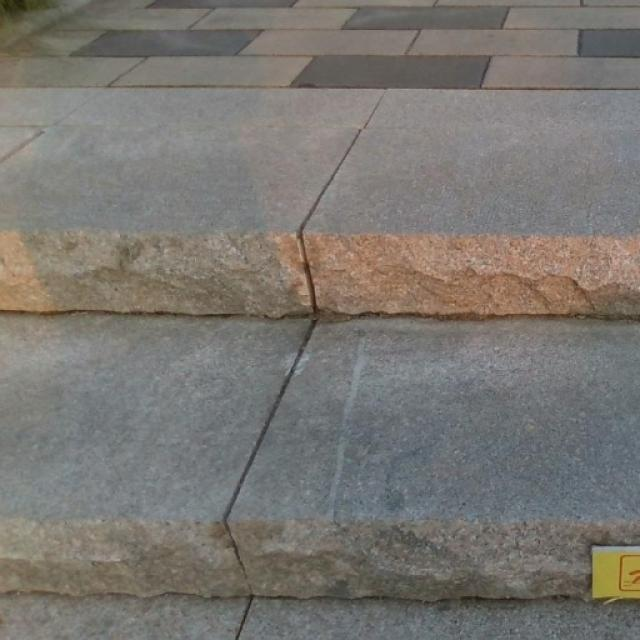Stairs: (2, 116, 639, 638)
